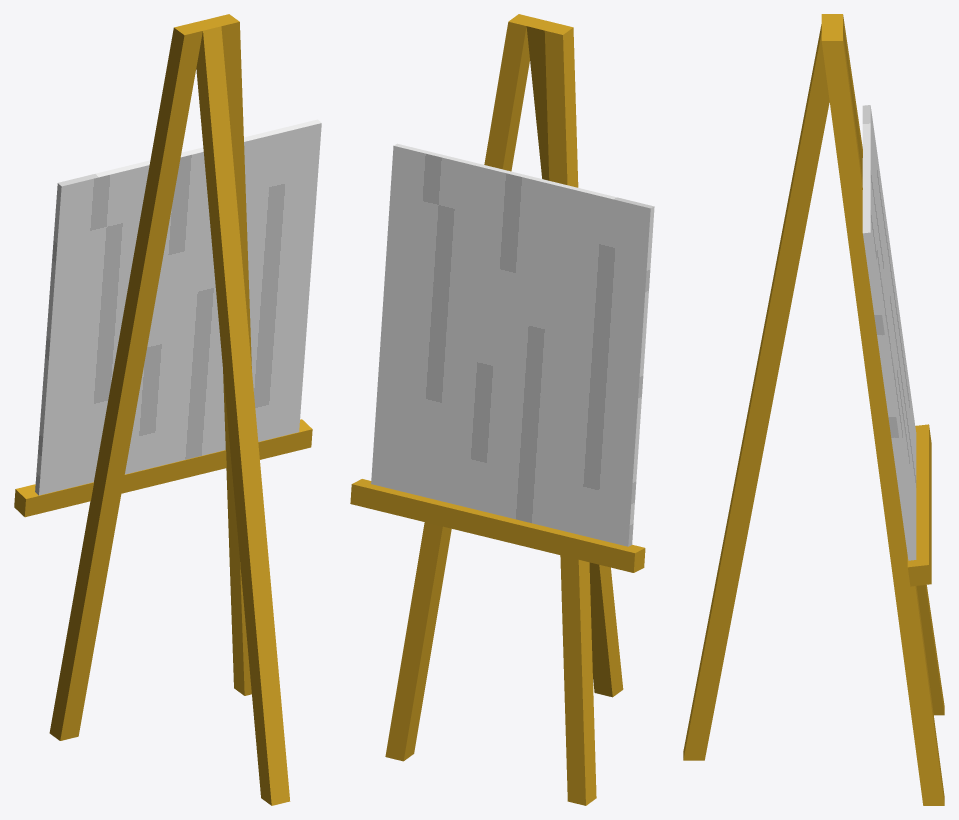
File: easel.obj
The picture shows the model from 3 angles, left to right: view 1: azimuth 30°, elevation 25°; view 2: azimuth 150°, elevation 25°; view 3: azimuth 270°, elevation 25°; orthographic projection.
Visible parts, largest first — view 1: Easel_Cube; view 2: Easel_Cube; view 3: Easel_Cube.
Boxes of the visible parts, x1=… form: Easel_Cube: x1=14, y1=14, x2=321, y2=805; Easel_Cube: x1=350, y1=14, x2=654, y2=805; Easel_Cube: x1=683, y1=14, x2=944, y2=805.
Size of the model in its own units: 0.7767 by 1.88 by 0.6101.
